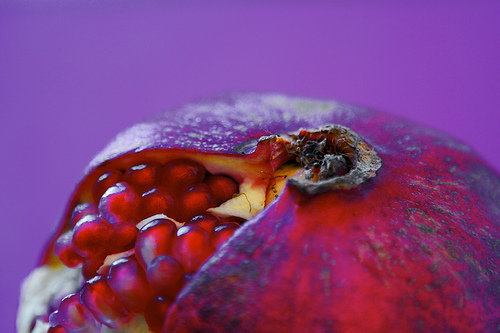pomogranate: (14, 91, 499, 332)
